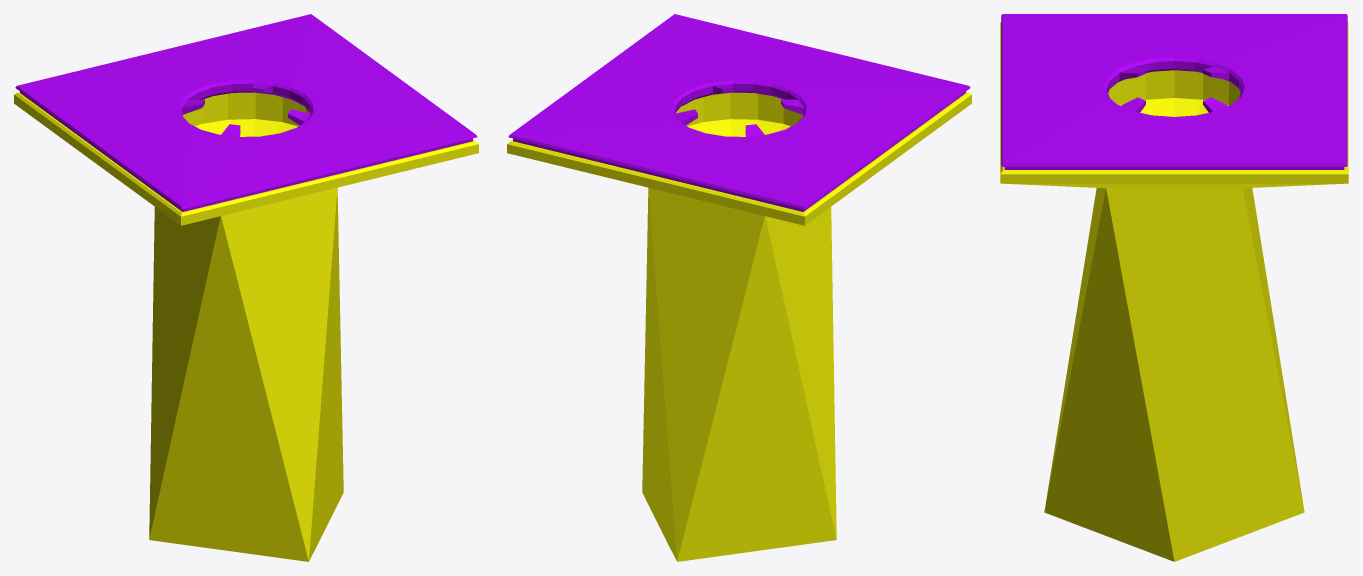
Rendered from BRAZIER.fbx.
The picture shows the model from 3 angles, left to right: view 1: azimuth 30°, elevation 25°; view 2: azimuth 150°, elevation 25°; view 3: azimuth 270°, elevation 25°; orthographic projection. The views are drawn at different scales.
Parts seen in each view (by area): view 1: BRAZIER; view 2: BRAZIER; view 3: BRAZIER.
Boxes of the visible parts, x1=… form: BRAZIER: x1=14, y1=14, x2=478, y2=561; BRAZIER: x1=507, y1=14, x2=971, y2=561; BRAZIER: x1=1000, y1=14, x2=1348, y2=561.
Size of the model in its own units: 55.13 by 72.44 by 53.53.
